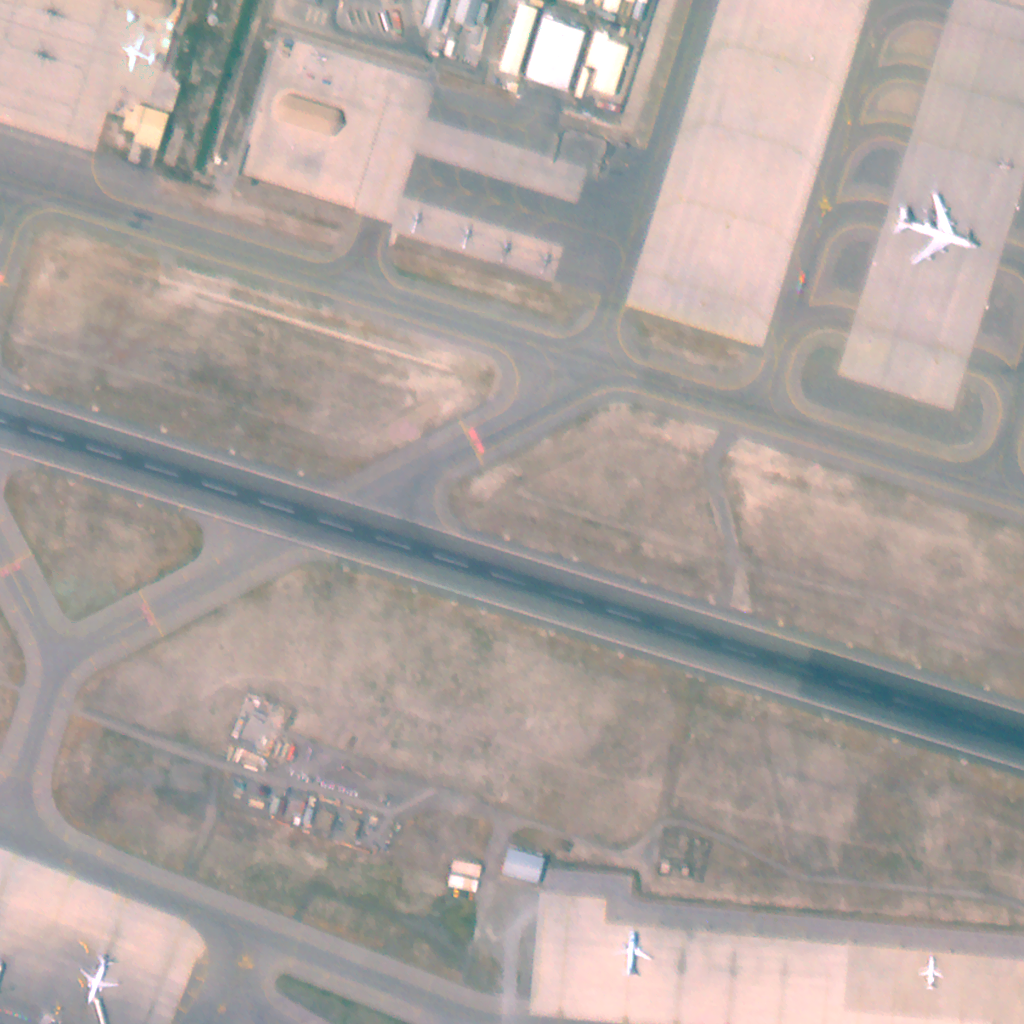plane: (896, 185, 979, 267), (81, 952, 118, 1004), (615, 928, 654, 974), (120, 35, 159, 69), (917, 956, 948, 991)
